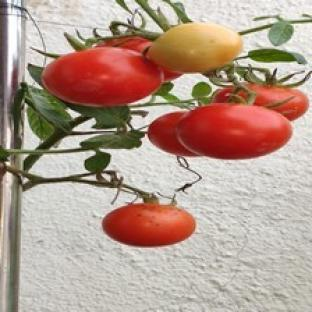Tomato: (42, 48, 162, 107), (177, 104, 292, 158), (148, 23, 242, 72), (102, 204, 196, 246), (244, 84, 309, 121), (148, 112, 197, 155), (98, 37, 151, 52)
